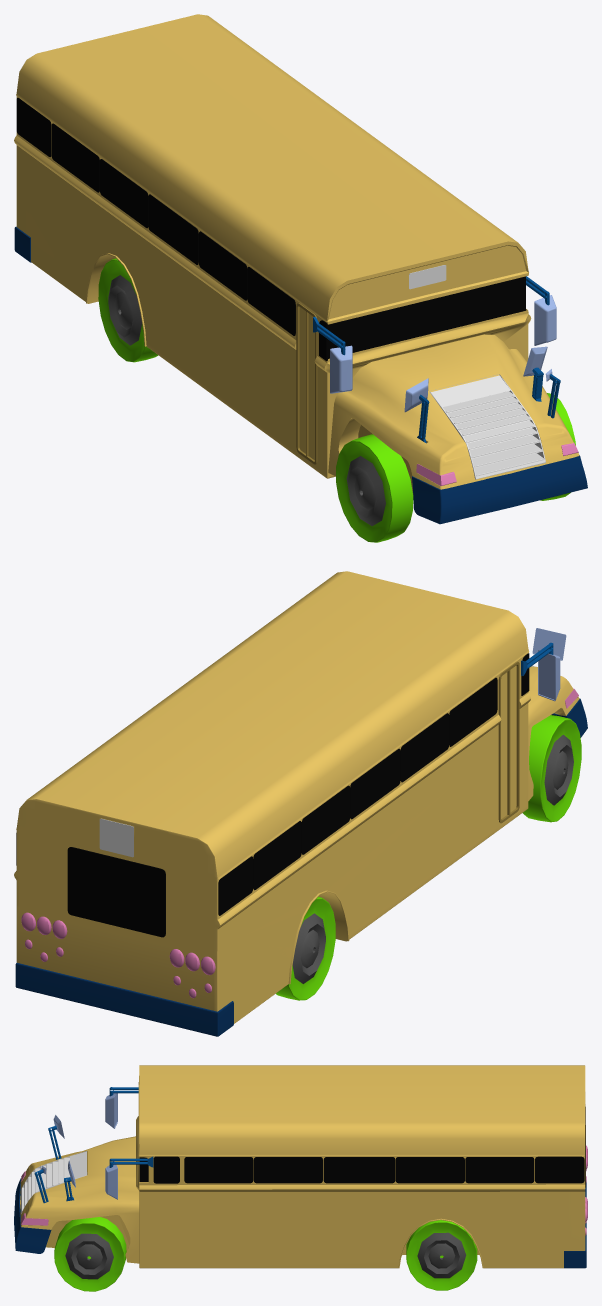
File: Bus.fbx
The picture shows the model from 3 angles, top to bottom: view 1: azimuth 30°, elevation 25°; view 2: azimuth 150°, elevation 25°; view 3: azimuth 270°, elevation 25°; orthographic projection. The views are drawn at different scales.
Parts seen in each view (by area): view 1: polySurface33, Grill_Export, Front_Wheels_Export, Windshield_Export, Bumpers_Export, Back_Wheels_Export, Mirrors_Export, pCube47, pCube49, pCube48, pCube45, pCube46 (+3 smaller); view 2: polySurface33, pCube57, Bumpers_Export, Front_Wheels_Export, Back_Wheels_Export, pCube47, pCube48, pCube45, pCube49, pCube46, Back_Lights_Export, Door_Export (+3 smaller); view 3: polySurface33, Front_Wheels_Export, Back_Wheels_Export, pCube53, pCube54, pCube55, pCube51, pCube52, Bumpers_Export, Grill_Export, pCube56, polySurface35 (+2 smaller).
Part boxes in pixels (box(x1,y1,x2,y2)): polySurface33: box(14, 14, 579, 494); Grill_Export: box(429, 374, 545, 479); Front_Wheels_Export: box(336, 393, 575, 542); Windshield_Export: box(319, 276, 525, 360); Bumpers_Export: box(14, 226, 587, 524); Back_Wheels_Export: box(98, 258, 158, 362); Mirrors_Export: box(330, 295, 556, 412); pCube47: box(148, 194, 198, 264); pCube49: box(51, 123, 99, 192); pCube48: box(100, 159, 148, 228); pCube45: box(199, 231, 247, 300); pCube46: box(247, 267, 295, 335); polySurface33: box(14, 571, 579, 1023); pCube57: box(67, 847, 165, 937); Bumpers_Export: box(15, 698, 587, 1036); Front_Wheels_Export: box(523, 715, 581, 822); Back_Wheels_Export: box(276, 896, 335, 1000); pCube47: box(350, 748, 400, 819); pCube48: box(301, 785, 350, 854); pCube45: box(400, 713, 449, 782); pCube49: box(253, 821, 301, 890); pCube46: box(449, 677, 497, 746); Back_Lights_Export: box(21, 912, 215, 998); Door_Export: box(498, 661, 519, 823); polySurface33: box(20, 1065, 585, 1268); Front_Wheels_Export: box(54, 1217, 126, 1291); Back_Wheels_Export: box(406, 1220, 477, 1290); pCube53: box(323, 1157, 395, 1183); pCube54: box(395, 1157, 464, 1183); pCube55: box(465, 1157, 534, 1183); pCube51: box(184, 1157, 253, 1183); pCube52: box(253, 1157, 322, 1183); Bumpers_Export: box(14, 1178, 586, 1268); Grill_Export: box(21, 1151, 87, 1213); pCube56: box(535, 1156, 584, 1183); polySurface35: box(34, 1087, 153, 1203).
Size of the model in its own units: 63.4 by 62.61 by 198.
